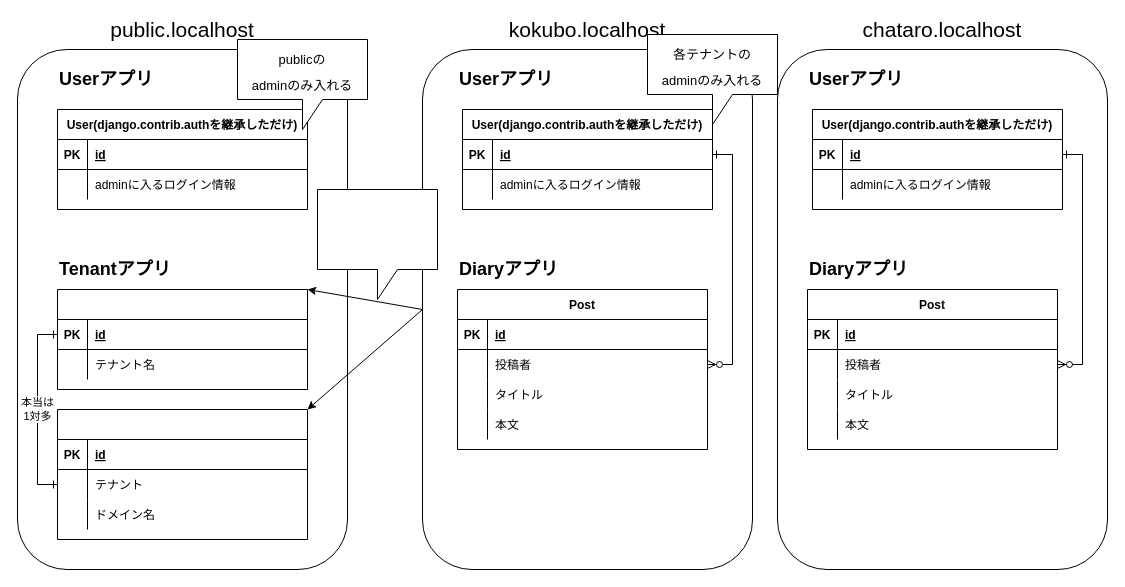
The diagram is 1125 pixels wide and 587 high, and some of its shapes have lost their labels. The shapes that lost their labels are listed below. From the top down, each one's box as (x1, y1, x2, y2) in pixels, then its label:
(316, 188, 438, 300): テナントからは publicのテーブルにアクセス可能
(56, 288, 308, 390): Tenant
(56, 408, 308, 540): Domain
